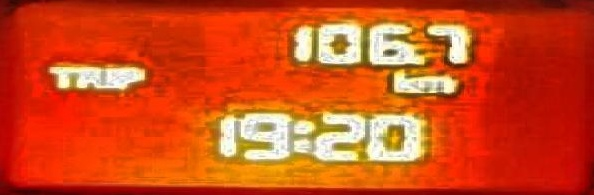-: (409, 53, 423, 65)
0: (363, 112, 423, 161), (312, 20, 361, 65)
1: (211, 114, 236, 158), (287, 22, 311, 63)
2: (311, 111, 365, 162)
6: (363, 22, 409, 66)
7: (421, 23, 472, 64)
9: (236, 111, 289, 161)
X: (418, 73, 460, 95), (290, 117, 312, 153), (43, 64, 74, 89), (116, 64, 145, 90), (74, 64, 103, 89), (389, 70, 416, 95), (100, 64, 116, 89)
